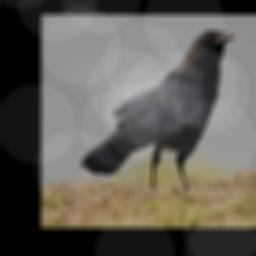Crow: (80, 28, 236, 191)
